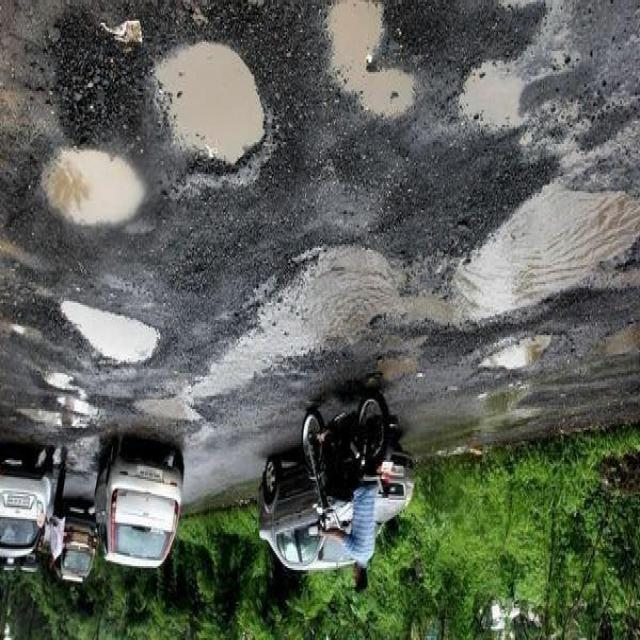lubang: (184, 248, 430, 414), (437, 180, 636, 358), (143, 28, 273, 184), (316, 2, 414, 134), (36, 130, 146, 246), (56, 296, 168, 371), (11, 387, 92, 483), (453, 48, 532, 138), (132, 383, 208, 456), (90, 401, 150, 466), (476, 333, 552, 377), (56, 383, 111, 417), (600, 328, 638, 363), (4, 324, 46, 354), (35, 373, 80, 398)
